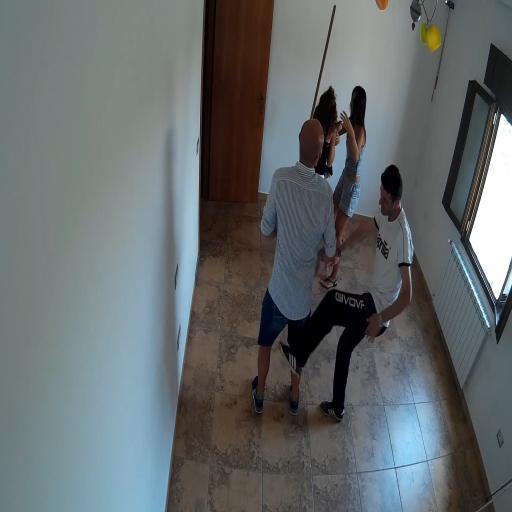violencia: (246, 102, 420, 446)
